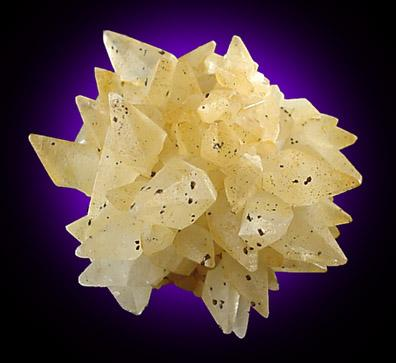calcite: (28, 30, 363, 340)
